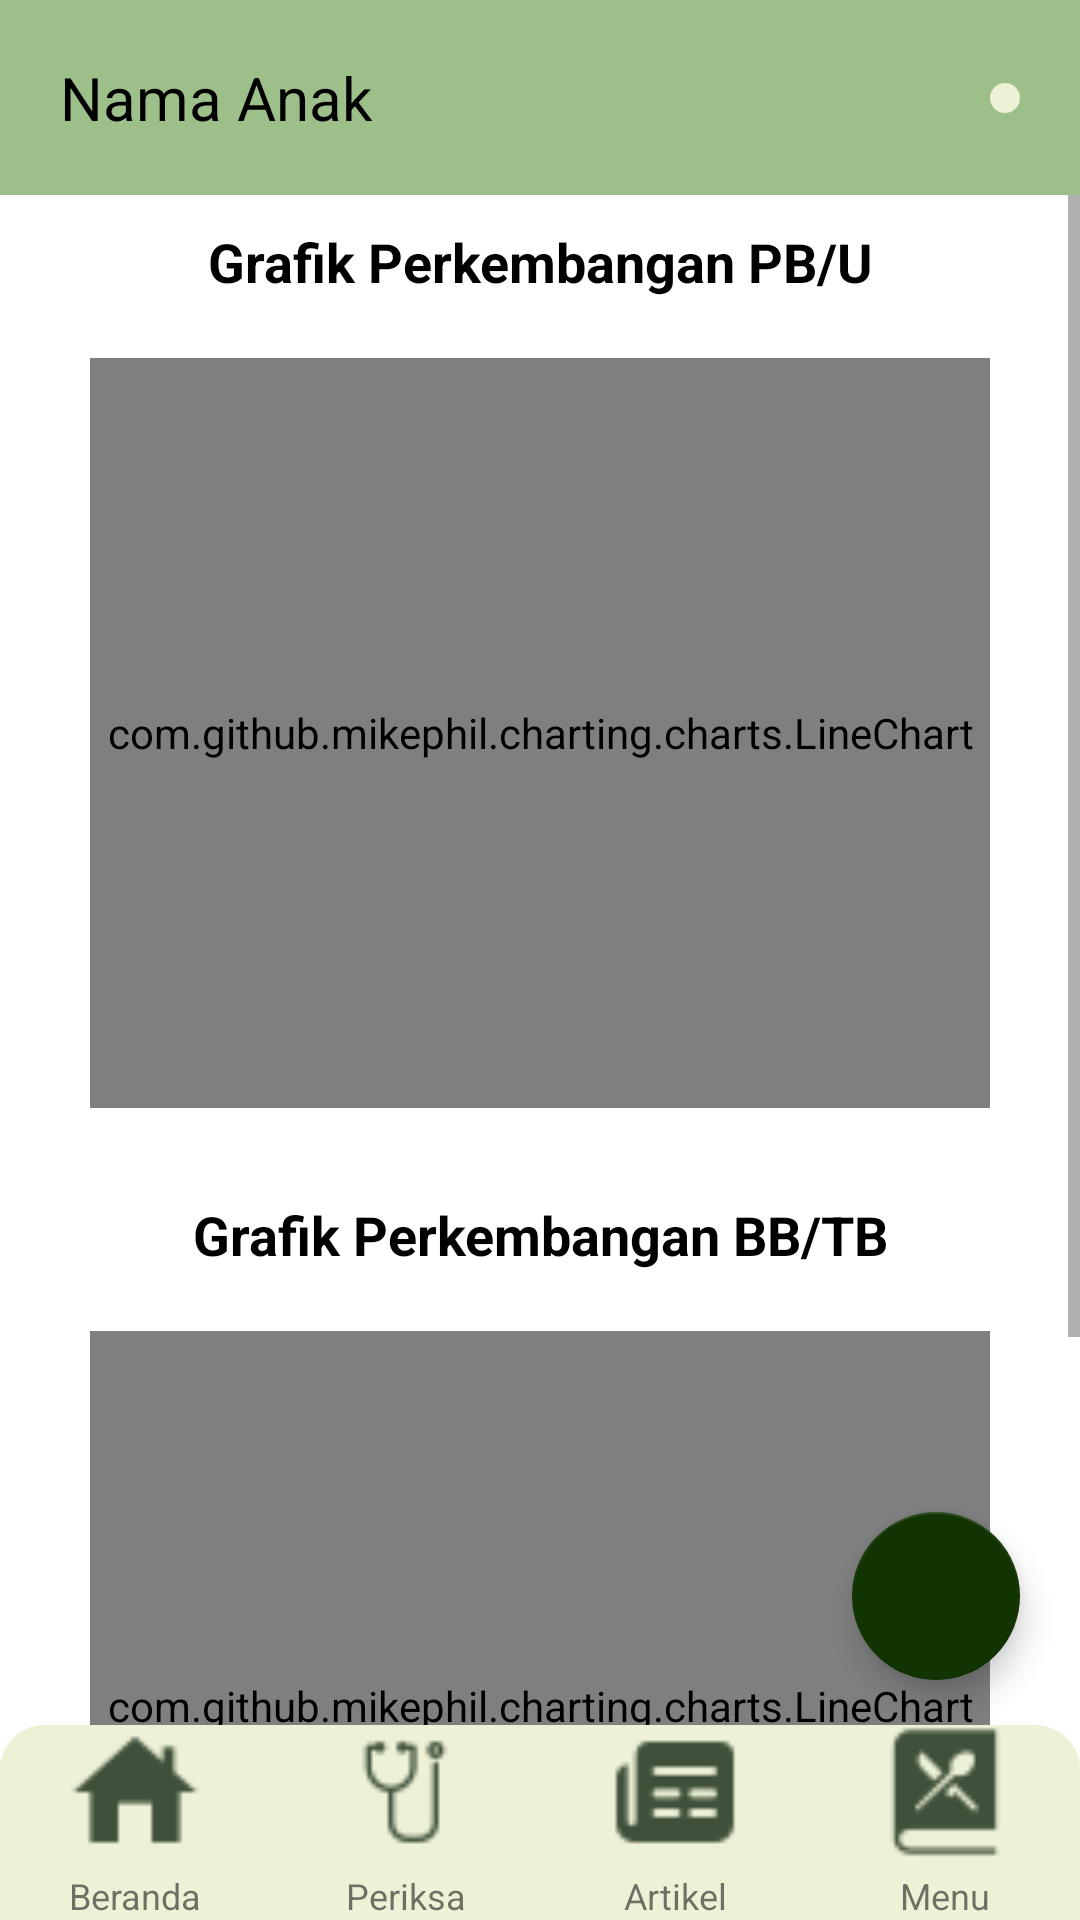

Point at icon controls on the screen. Image size 1080px×1920px, points as (x,y).
cooking book: (945,1792)
doctor: (404,1792)
newspaper: (675,1792)
